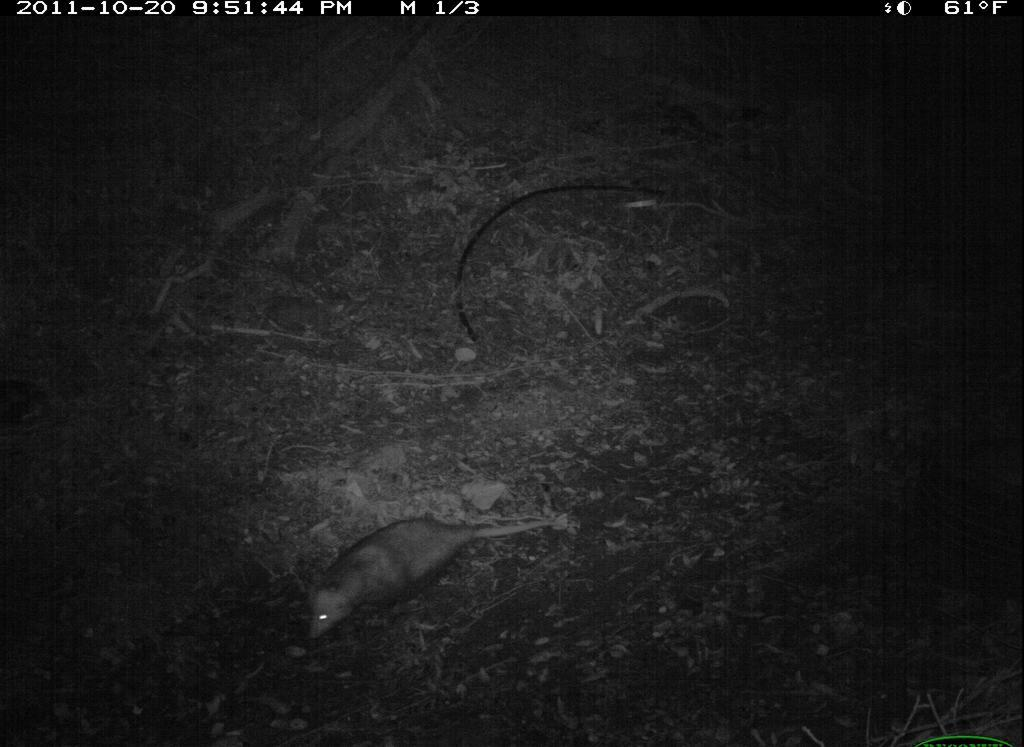opossum: (308, 507, 565, 638)
